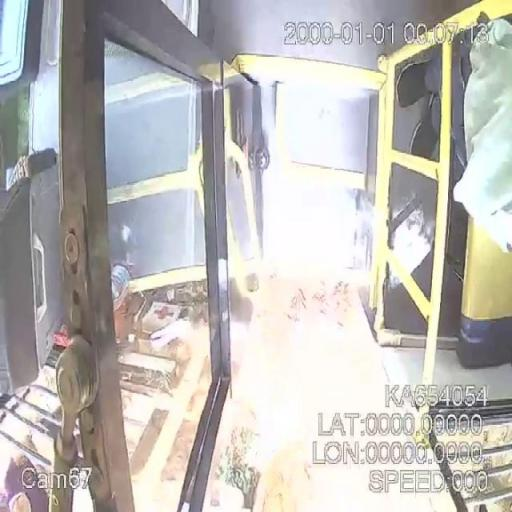persona: (394, 22, 512, 214)
